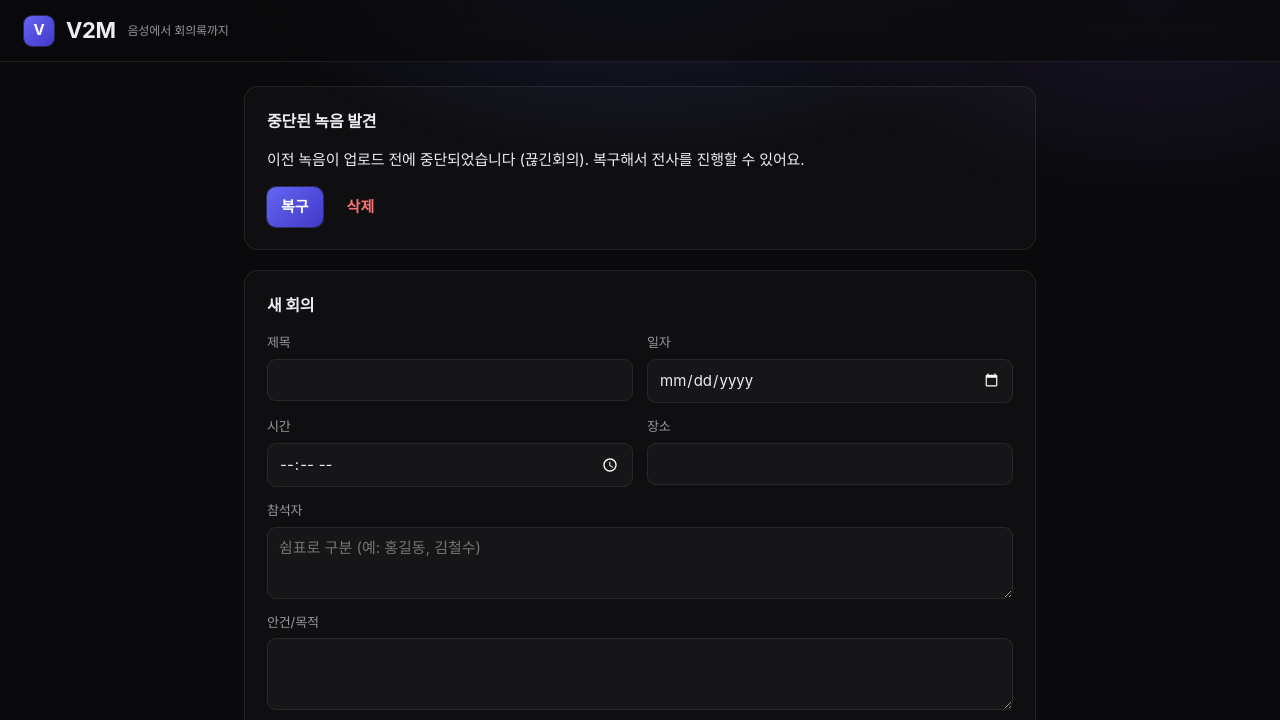
Test: App › offers to recover a buffered recording and uploads it
Check: the heading "중단된 녹음 발견" is shown, box [267,111,376,131]
Step 1. Click the button "복구" → (295, 207), box [267,186,323,227]
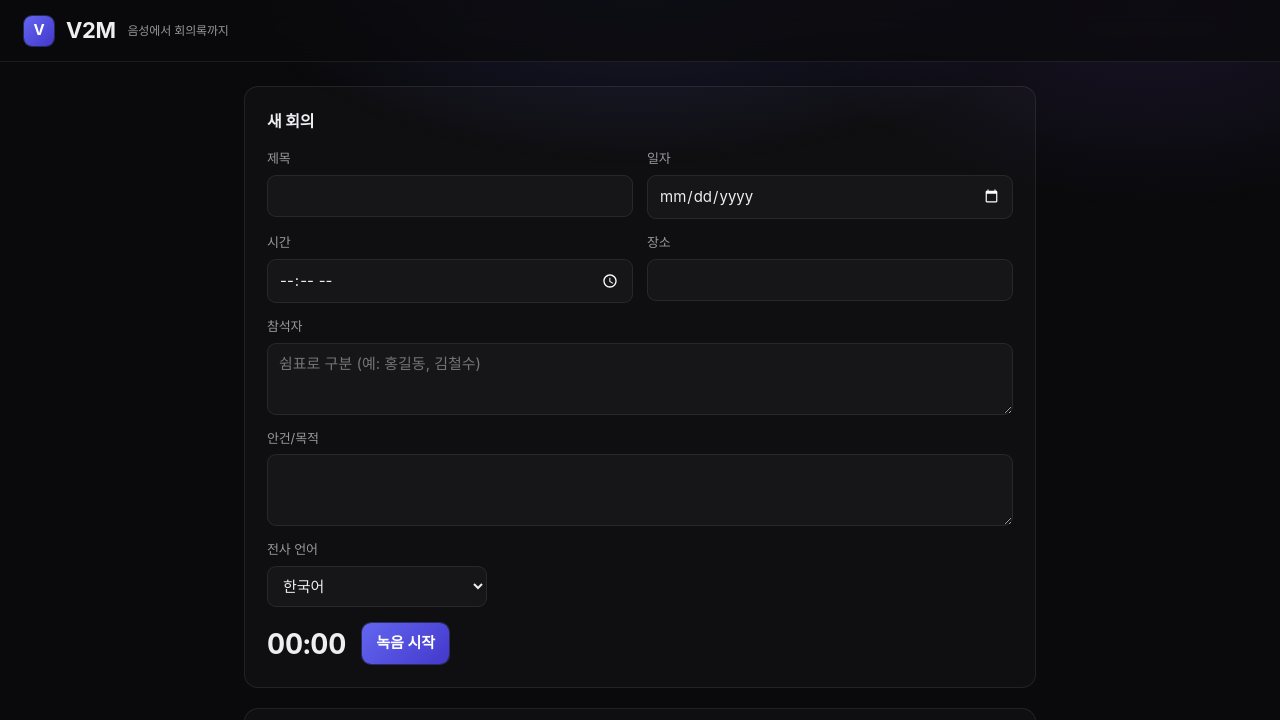
Check: the heading "중단된 녹음 발견" is gone
